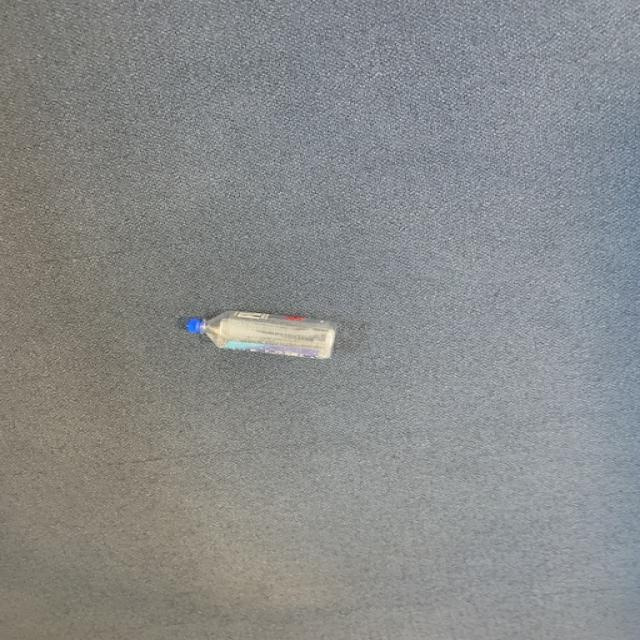Waste: (186, 311, 338, 359)
